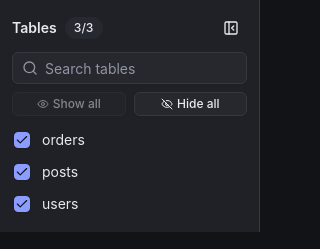
it: TableListPane › filters the list, and offers show all and hide all only when they change something
The width and height of the screenshot is (320, 249).
Expected: the button "Show all" is disabled, [12,92,126,116]
Expected: the button "Hide all" is enabled, [134,92,247,116]
Type "zzz" into the search field labelled "Search tables" at x=130, y=68, box [12,52,247,84]
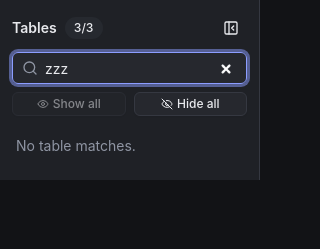
Result: the list item "No table matches." is shown at [16,137,136,154]
